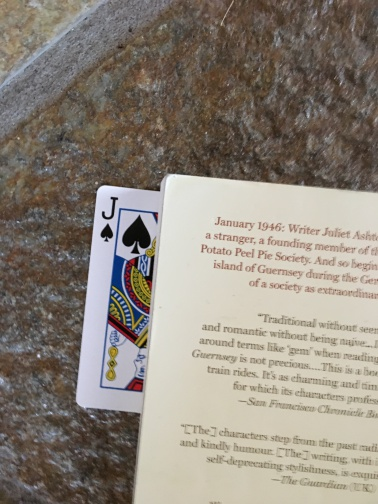jack: (76, 184, 162, 421)
